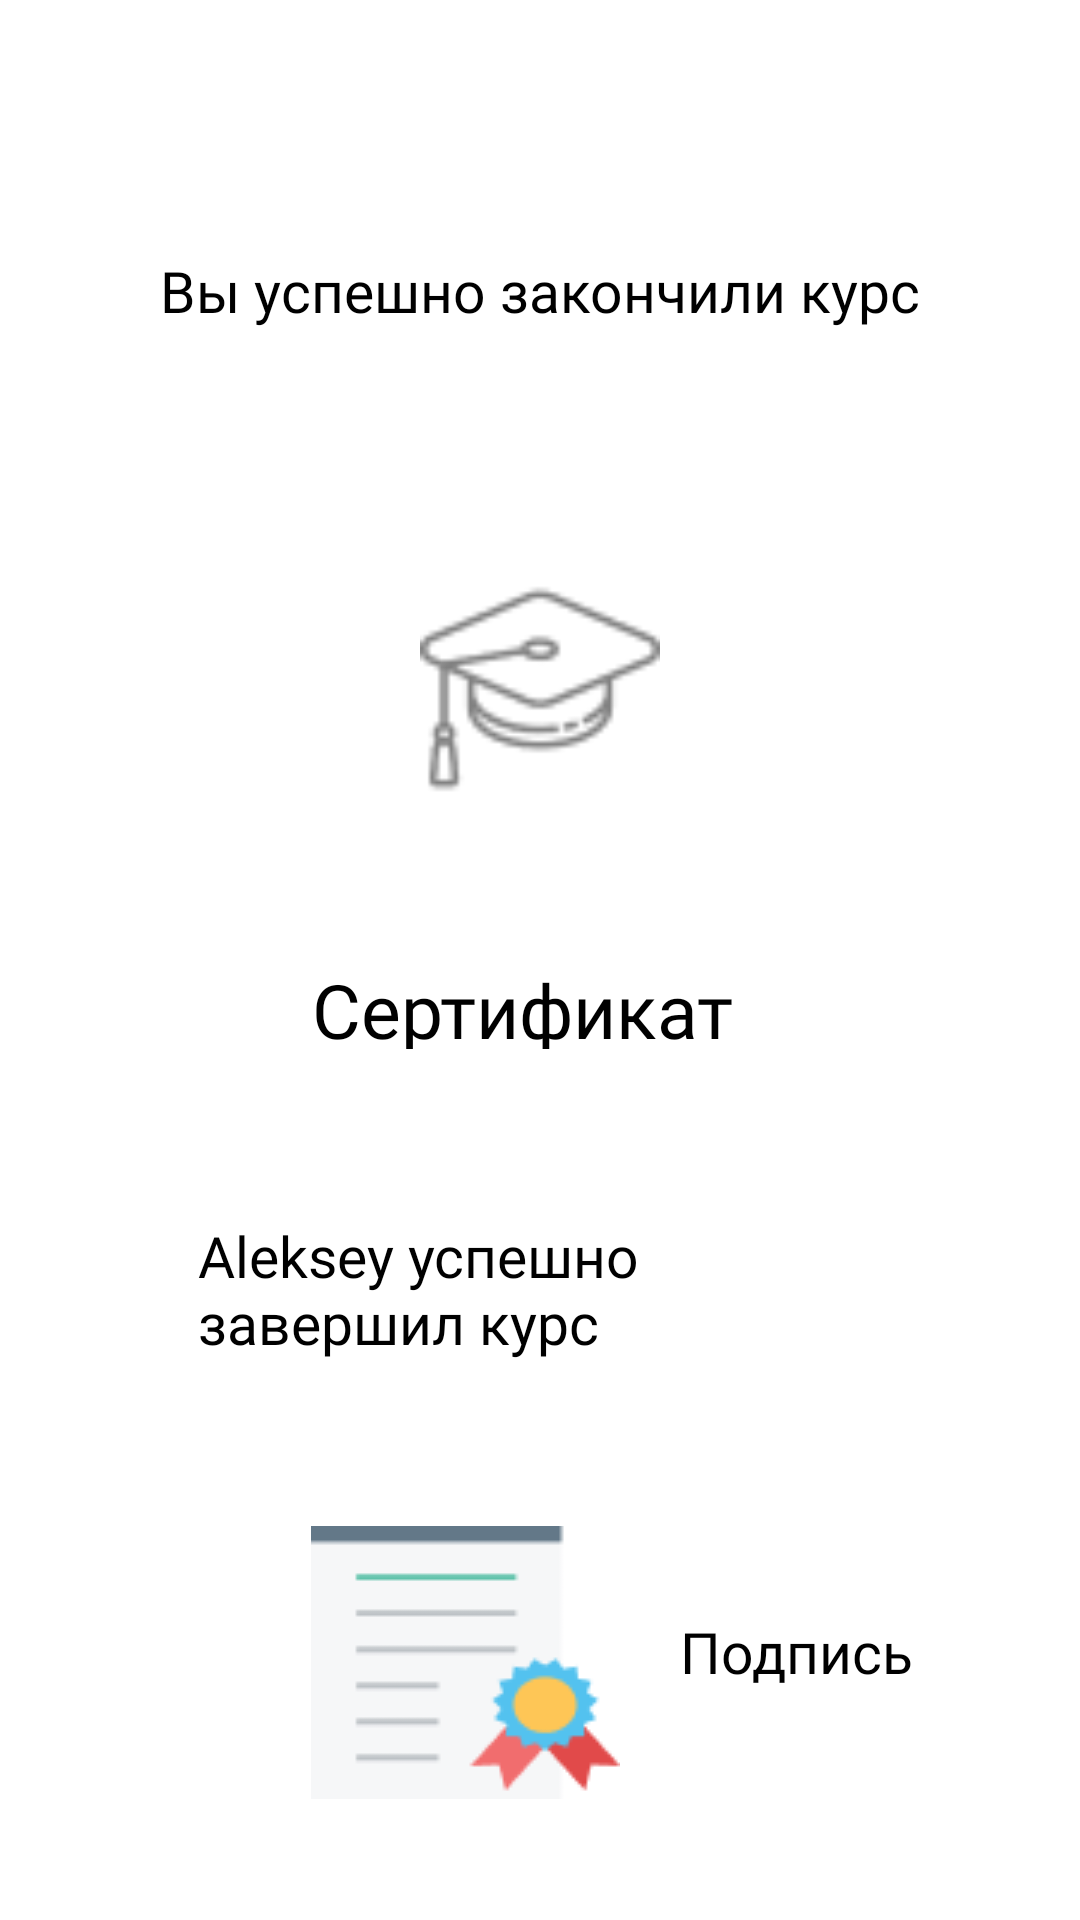

Named icons in this screenshot (1080 x 1920) and their centers, [x,y]:
certificate: [465,1662]
mortarboard: [540,689]
